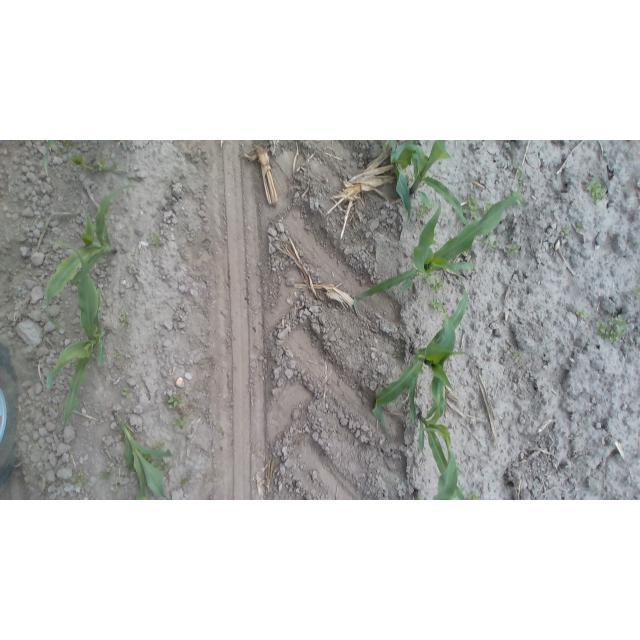Maize: (345, 168, 533, 303), (41, 180, 145, 336), (368, 280, 470, 436), (48, 242, 113, 435), (409, 357, 467, 500), (385, 141, 470, 234), (112, 409, 175, 500), (69, 152, 129, 178)
Weeds: (595, 313, 628, 344), (585, 177, 607, 205), (464, 194, 482, 221), (428, 296, 449, 316), (165, 393, 185, 411), (428, 276, 445, 293), (482, 237, 499, 253), (148, 232, 164, 248), (58, 140, 73, 156), (72, 471, 86, 488), (416, 204, 429, 220), (172, 417, 189, 429), (508, 244, 523, 257), (119, 312, 131, 328), (100, 470, 113, 483), (576, 308, 589, 320), (121, 387, 132, 401), (177, 476, 191, 487), (466, 492, 485, 500), (561, 226, 572, 239), (380, 141, 391, 154), (153, 441, 167, 451), (630, 284, 640, 298), (483, 201, 494, 213), (575, 223, 588, 233), (408, 493, 428, 499), (112, 351, 123, 361), (512, 351, 521, 362), (84, 495, 98, 500)
